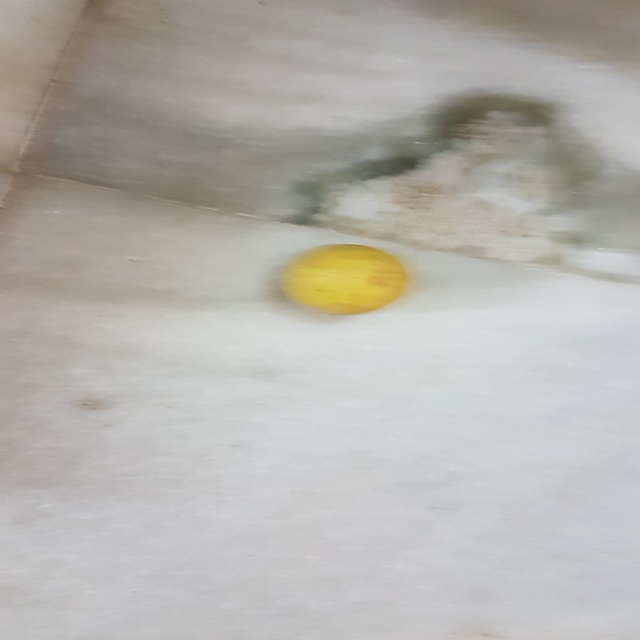lemon: (267, 235, 426, 332)
